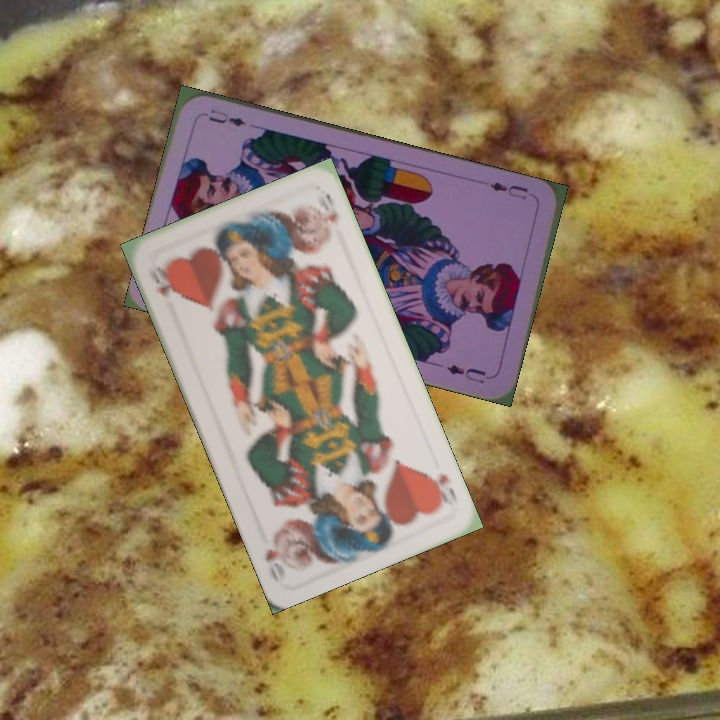EU: (485, 177, 531, 202)
HO: (423, 467, 461, 510), (143, 262, 176, 301)
